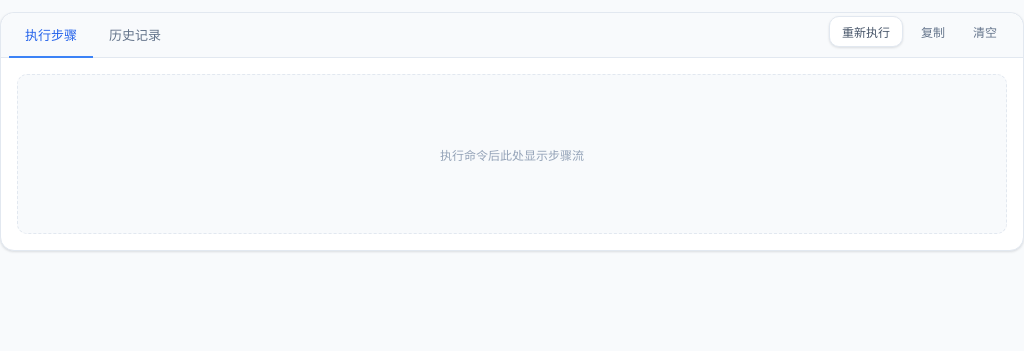
Test: HistoryPanel › 历史重放回调后 StepsPanel 切回「执行步骤」tab
Step 1. Click the button with test id "panel-tab" showing "历史记录" → (135, 36), box [93,13,177,58]
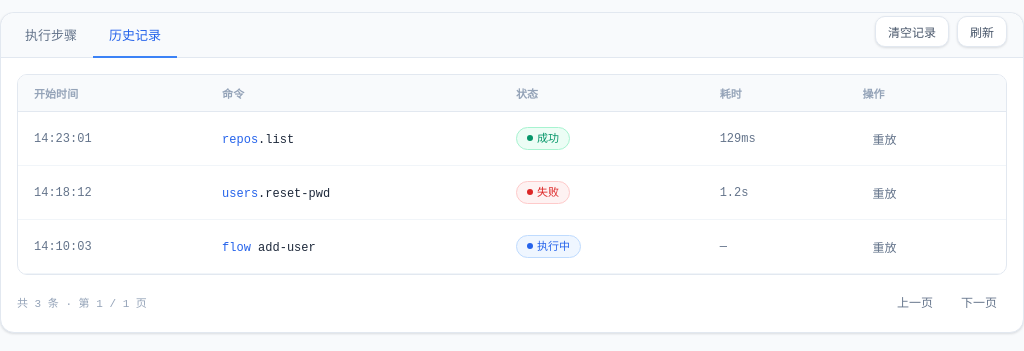
Expected: the number of buttons with test id "replay-button" is 3
Step 2. Click the button with test id "replay-button" in the row of "14:23:01" → (884, 138), box [862,124,906,153]
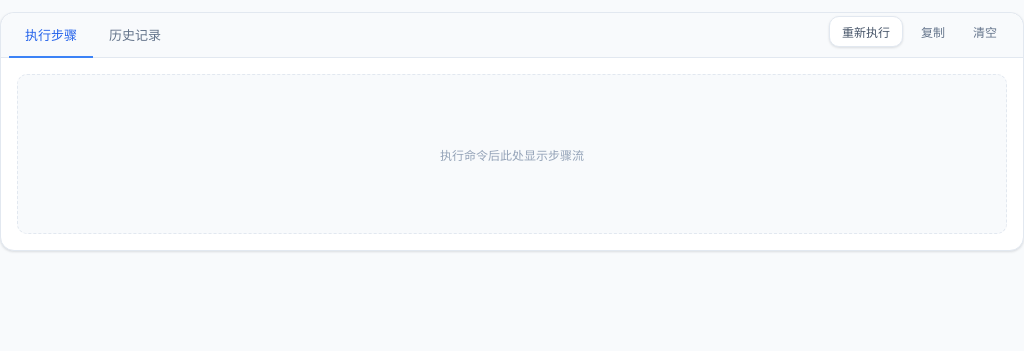
Expected: the button with test id "re-run-button" is shown, [829,16,903,46]
